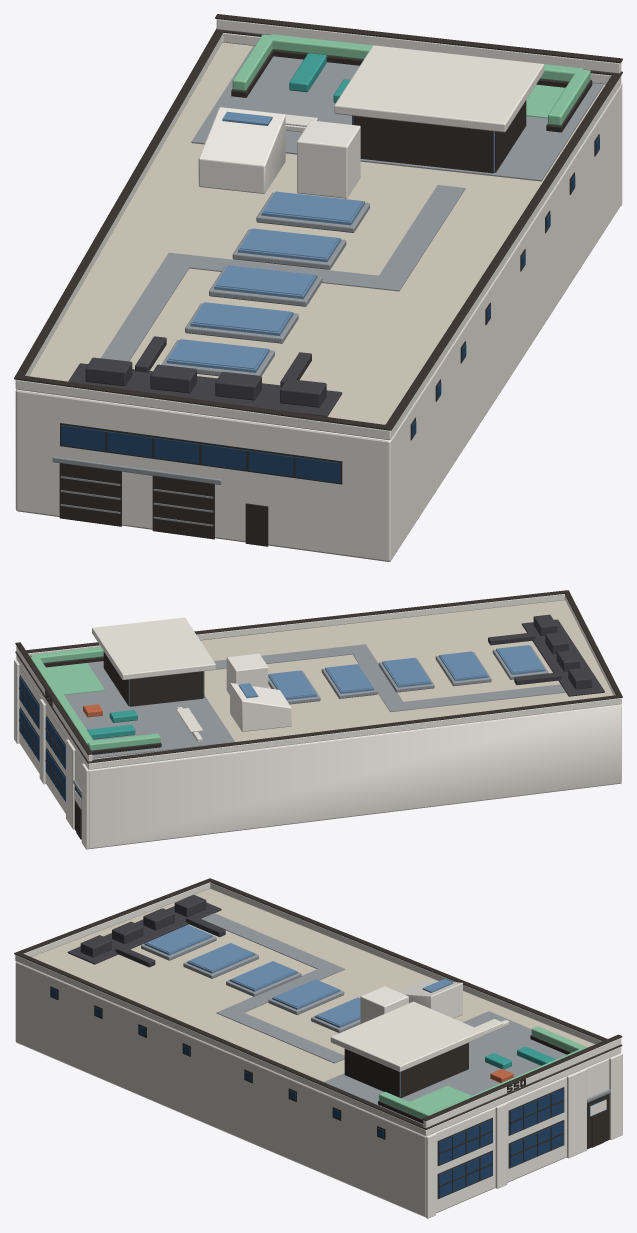
The model's file is 550-third.glb.
3 renders of one model, top to bottom at view 1: azimuth 30°, elevation 25°; view 2: azimuth 150°, elevation 25°; view 3: azimuth 270°, elevation 25°, orthographic. The views are drawn at different scales.
Parts seen in each view (by area): view 1: body, grp_Toy_ink, grp_Toy_steel, grp_Toy_white, grp_Toy_trim, grp_Toy_glassl_Glow, grp_Toy_roofd, grp_Toy_glass, grp_Toy_mint, grp_Toy_glassl, grp_Toy_teal; view 2: body, grp_Toy_white, grp_Toy_steel, grp_Toy_ink, grp_Toy_trim, grp_Toy_glassl_Glow, grp_Toy_roofd, grp_Toy_mint, grp_Toy_glass, grp_Toy_glassl, grp_Toy_teal; view 3: body, grp_Toy_white, grp_Toy_ink, grp_Toy_steel, grp_Toy_trim, grp_Toy_glass, grp_Toy_glassl_Glow, grp_Toy_roofd, grp_Toy_mint, grp_Toy_glassl, grp_Toy_teal.
Part boxes in pixels (left/top/right/bottom): body: left=15, top=42, right=620, bottom=561; grp_Toy_ink: left=14, top=14, right=622, bottom=546; grp_Toy_steel: left=52, top=46, right=603, bottom=526; grp_Toy_white: left=15, top=19, right=622, bottom=440; grp_Toy_trim: left=285, top=45, right=544, bottom=132; grp_Toy_glassl_Glow: left=168, top=116, right=494, bottom=368; grp_Toy_roofd: left=68, top=336, right=342, bottom=416; grp_Toy_glass: left=61, top=137, right=599, bottom=483; grp_Toy_mint: left=232, top=34, right=590, bottom=125; grp_Toy_glassl: left=166, top=111, right=364, bottom=372; grp_Toy_teal: left=289, top=53, right=350, bottom=103; body: left=19, top=600, right=621, bottom=848; grp_Toy_white: left=14, top=594, right=621, bottom=849; grp_Toy_steel: left=46, top=644, right=565, bottom=795; grp_Toy_ink: left=15, top=590, right=622, bottom=839; grp_Toy_trim: left=92, top=617, right=215, bottom=742; grp_Toy_glassl_Glow: left=129, top=645, right=543, bottom=705; grp_Toy_roofd: left=488, top=614, right=604, bottom=696; grp_Toy_mint: left=30, top=647, right=160, bottom=750; grp_Toy_glass: left=19, top=676, right=81, bottom=809; grp_Toy_glassl: left=238, top=645, right=545, bottom=699; grp_Toy_teal: left=87, top=710, right=137, bottom=739; body: left=15, top=889, right=619, bottom=1217; grp_Toy_white: left=15, top=882, right=622, bottom=1218; grp_Toy_ink: left=14, top=878, right=622, bottom=1198; grp_Toy_steel: left=141, top=913, right=610, bottom=1124; grp_Toy_trim: left=330, top=1001, right=509, bottom=1071; grp_Toy_glass: left=51, top=988, right=606, bottom=1197; grp_Toy_glassl_Glow: left=146, top=925, right=400, bottom=1097; grp_Toy_roofd: left=67, top=894, right=225, bottom=967; grp_Toy_mint: left=379, top=1026, right=587, bottom=1118; grp_Toy_glassl: left=144, top=926, right=453, bottom=1027; grp_Toy_teal: left=485, top=1046, right=555, bottom=1069.
Size of the model in its own units: 49.21 by 11 by 50.41.
